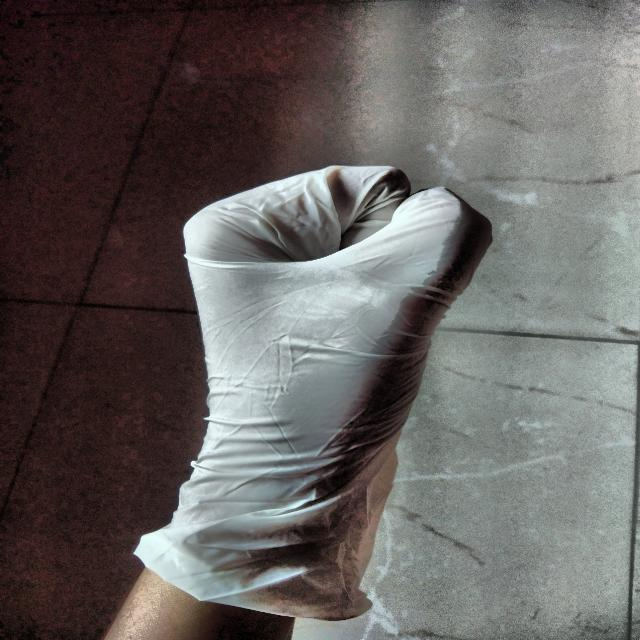gloved: (121, 154, 494, 632)
